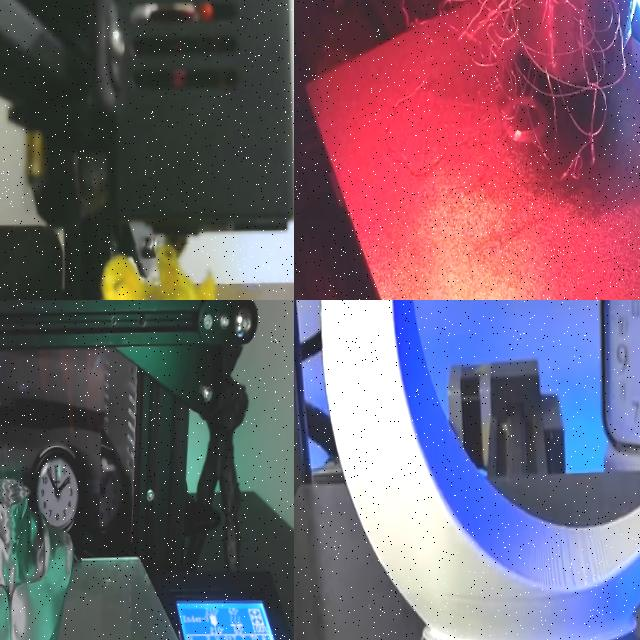spaghetti: (442, 0, 629, 181), (102, 245, 214, 300)
